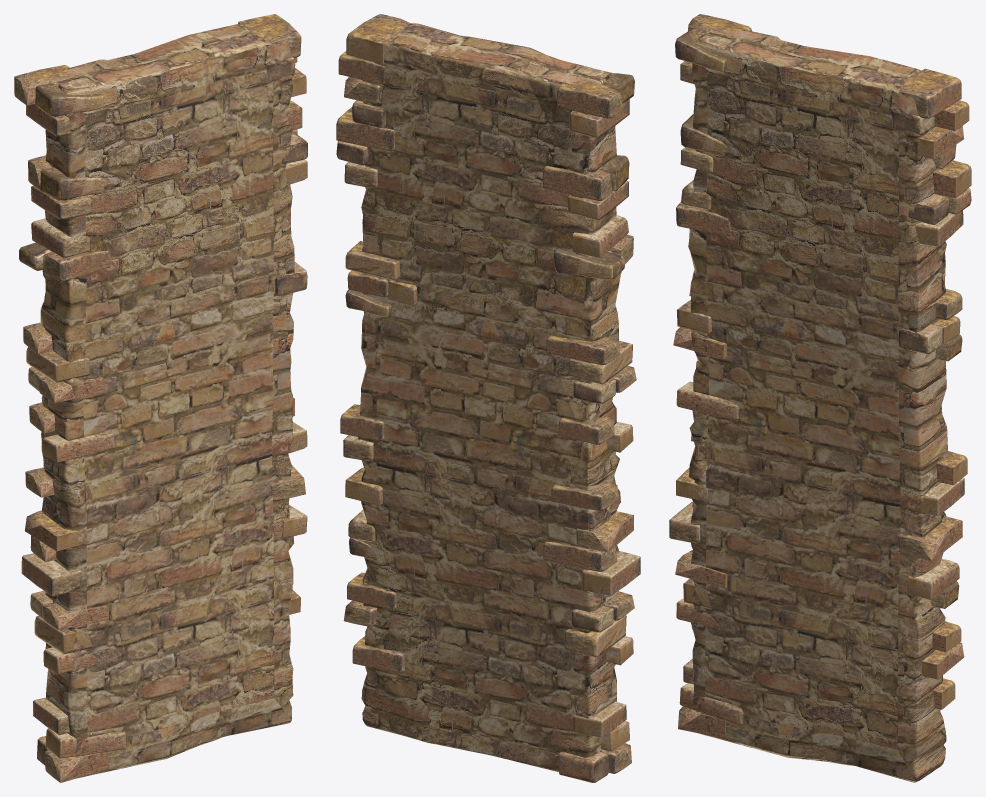
Rendered from Wall3.fbx.
3 renders of one model, left to right at view 1: azimuth 30°, elevation 25°; view 2: azimuth 150°, elevation 25°; view 3: azimuth 330°, elevation 25°, orthographic.
Parts seen in each view (by area): view 1: Group_0_Sub_0__sm20_005_PlateWallLarge_B_Mat__Env_Layer; view 2: Group_0_Sub_0__sm20_005_PlateWallLarge_B_Mat__Env_Layer; view 3: Group_0_Sub_0__sm20_005_PlateWallLarge_B_Mat__Env_Layer.
Boxes of the visible parts, x1=… form: Group_0_Sub_0__sm20_005_PlateWallLarge_B_Mat__Env_Layer: x1=14, y1=14, x2=307, y2=782; Group_0_Sub_0__sm20_005_PlateWallLarge_B_Mat__Env_Layer: x1=336, y1=14, x2=640, y2=782; Group_0_Sub_0__sm20_005_PlateWallLarge_B_Mat__Env_Layer: x1=669, y1=14, x2=971, y2=782.
Size of the model in its own units: 124 by 300 by 30.94.
